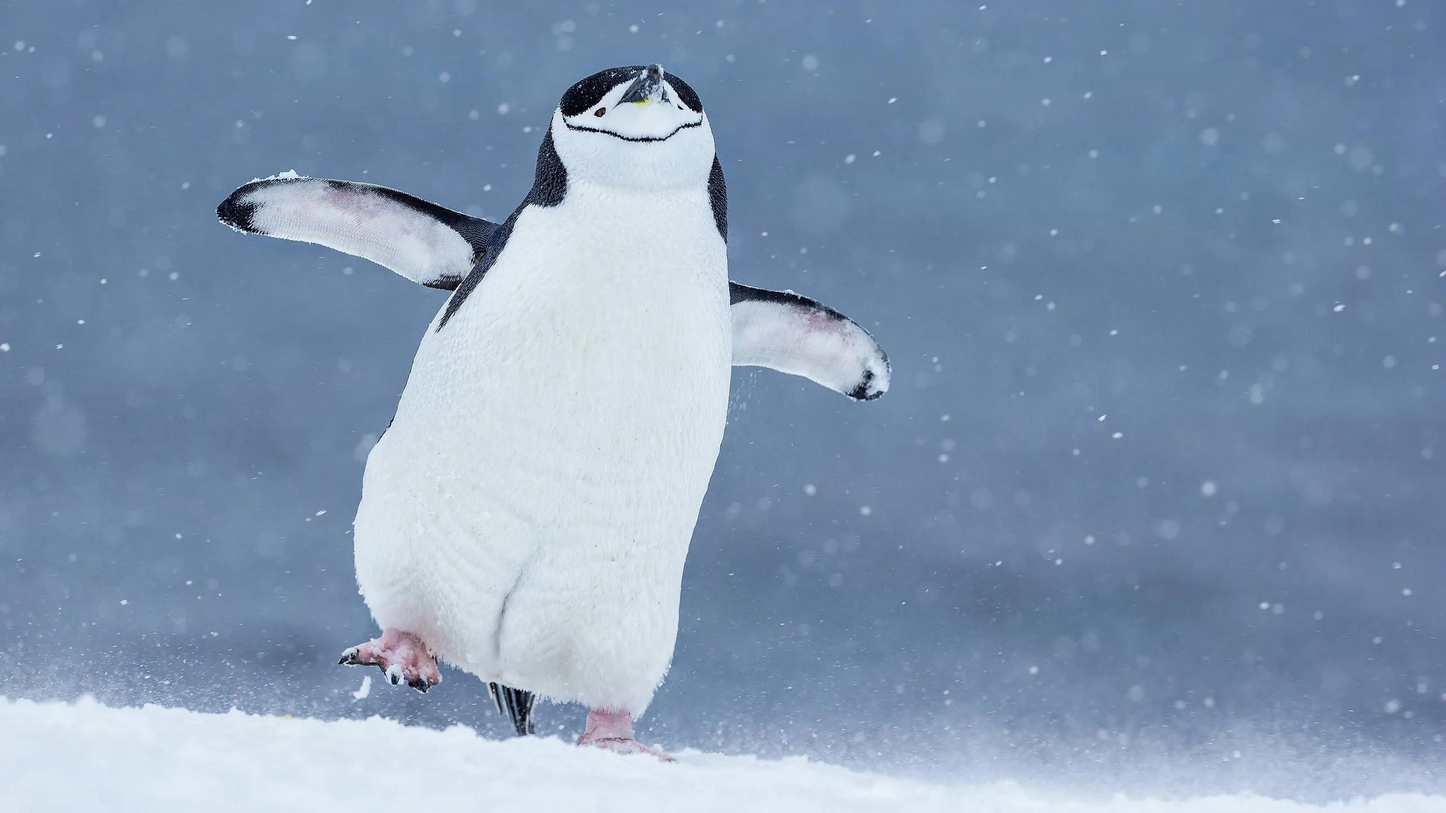Penguin: (217, 65, 890, 751)
